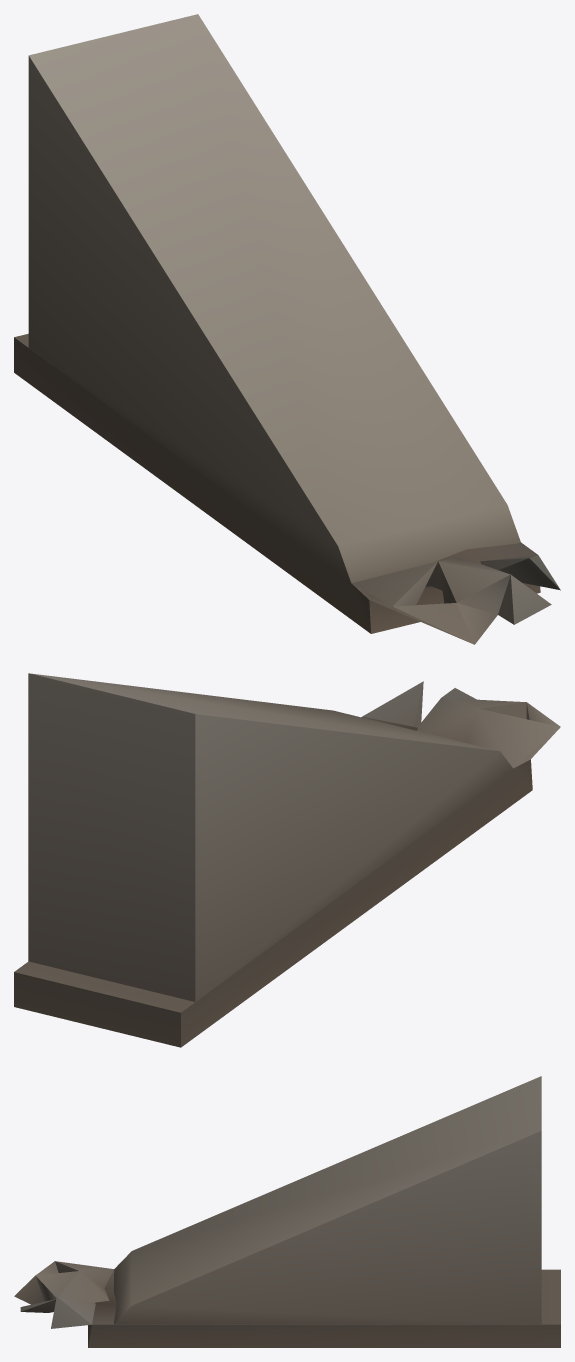
File: ke_ha_long.far.glb
The picture shows the model from 3 angles, top to bottom: view 1: azimuth 30°, elevation 25°; view 2: azimuth 150°, elevation 25°; view 3: azimuth 270°, elevation 25°; orthographic projection. The views are drawn at different scales.
Visible parts, largest first — view 1: drawing; view 2: drawing; view 3: drawing.
Boxes of the visible parts, x1,y1,x2,y2 form: drawing: [14, 14, 560, 644]; drawing: [14, 673, 560, 1047]; drawing: [14, 1076, 560, 1347].
Size of the model in its own units: 2.05 by 3.7 by 8.44.
